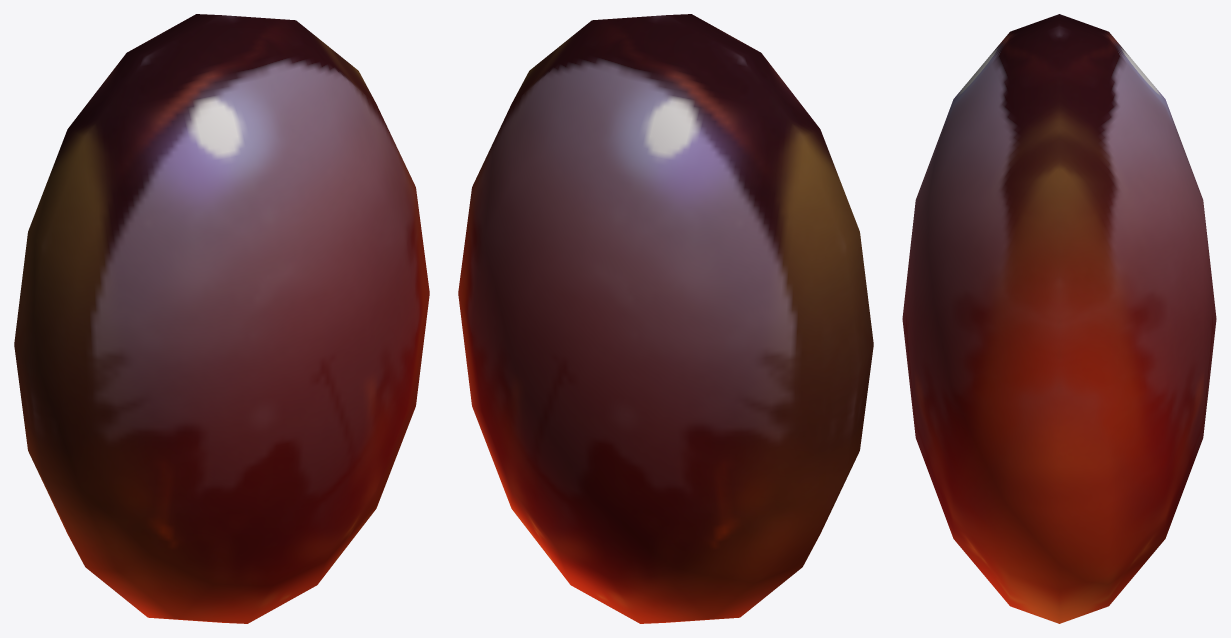
Rendered from magic.FBX.
The picture shows the model from 3 angles, left to right: view 1: azimuth 30°, elevation 25°; view 2: azimuth 150°, elevation 25°; view 3: azimuth 270°, elevation 25°; orthographic projection. The views are drawn at different scales.
Parts seen in each view (by area): view 1: magic; view 2: magic; view 3: magic.
Part boxes in pixels (x1,y1,x2,y2): magic: (14,14,429,623); magic: (458,14,873,623); magic: (902,14,1216,623).
Size of the model in its own units: 15.39 by 23.1 by 11.24.
